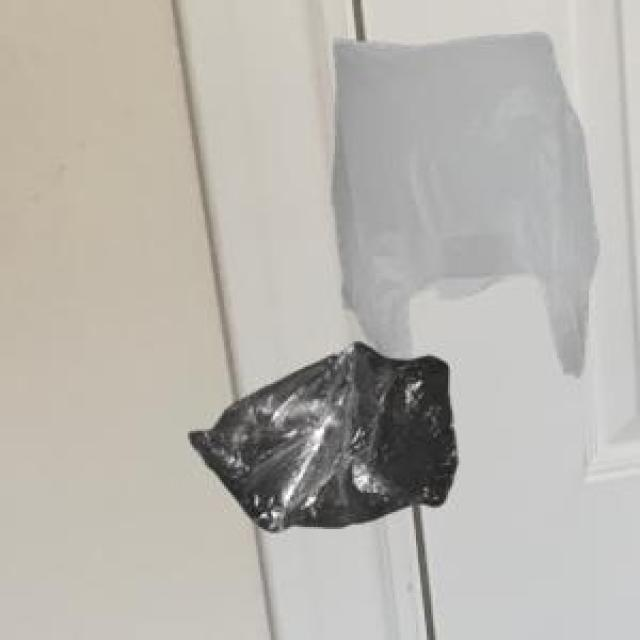plastic: (180, 20, 610, 565)
